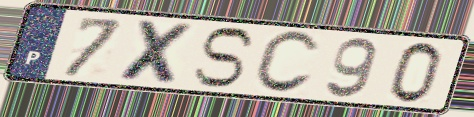0: (387, 41, 445, 104)
7: (61, 16, 126, 78)
9: (323, 35, 380, 99)
C: (249, 28, 322, 96)
S: (190, 25, 258, 90)
X: (115, 17, 199, 88)
